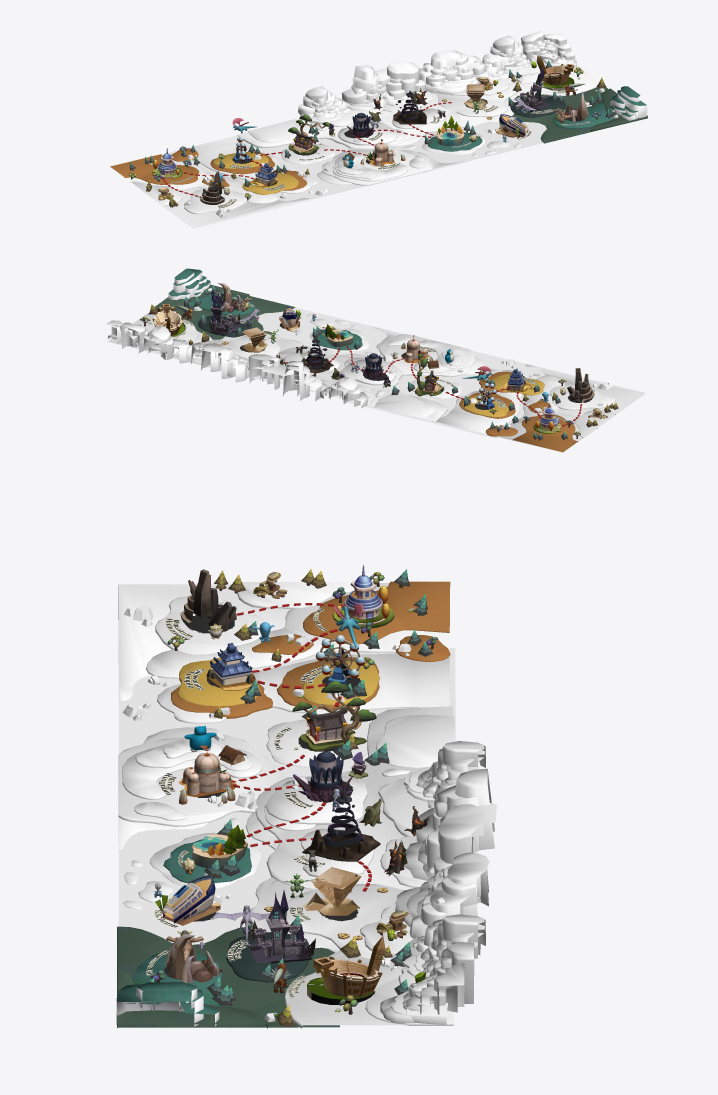
The model's file is 05_01_Kien_Truc_Va_Cot_Moc_The_Gioi.glb.
3 views of the same model, one above another, from view 1: azimuth 30°, elevation 25°; view 2: azimuth 150°, elevation 25°; view 3: azimuth 270°, elevation 25° (orthographic). The views are drawn at different scales.
Visible parts, largest first — view 1: 05_01_Kien_Truc_Va_Cot_Moc_The_Gioi; view 2: 05_01_Kien_Truc_Va_Cot_Moc_The_Gioi; view 3: 05_01_Kien_Truc_Va_Cot_Moc_The_Gioi.
Part boxes in pixels (bbox=[...]): 05_01_Kien_Truc_Va_Cot_Moc_The_Gioi: bbox=[110, 31, 647, 228]; 05_01_Kien_Truc_Va_Cot_Moc_The_Gioi: bbox=[106, 268, 645, 452]; 05_01_Kien_Truc_Va_Cot_Moc_The_Gioi: bbox=[116, 565, 496, 1028].
Bounding box in the file's own units: 214 × 15.52 × 78.96.
49 materials, 42 textured.
